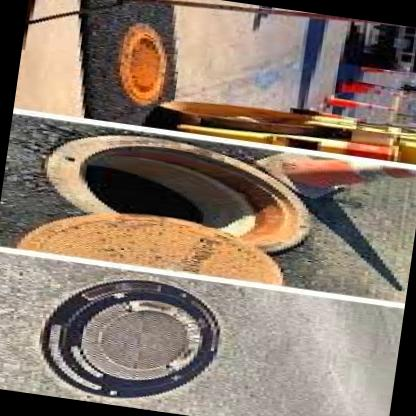manholes: (0, 118, 361, 293), (0, 257, 250, 416), (79, 17, 204, 114)
